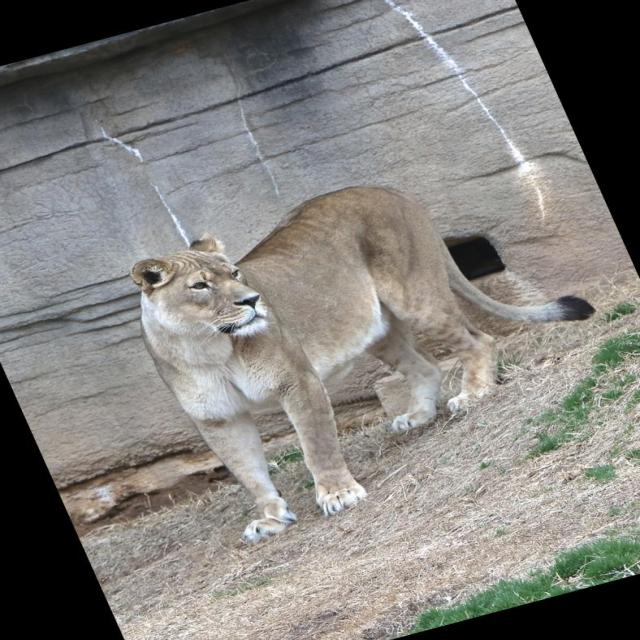Lion: (103, 141, 639, 548)
